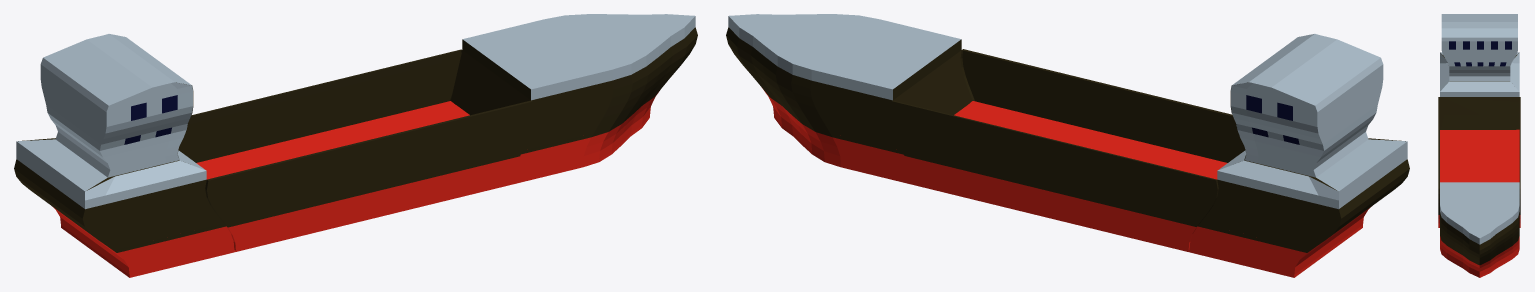
File: Ship.fbx
The picture shows the model from 3 angles, left to right: view 1: azimuth 30°, elevation 25°; view 2: azimuth 150°, elevation 25°; view 3: azimuth 270°, elevation 25°; orthographic projection. The views are drawn at different scales.
Parts seen in each view (by area): view 1: Cube; view 2: Cube; view 3: Cube.
Boxes of the visible parts, x1,y1,x2,y2 form: Cube: (14, 14, 697, 277); Cube: (726, 14, 1409, 277); Cube: (1438, 14, 1520, 277).
Bounding box in the file's own units: 5826 × 1572 × 1109.
